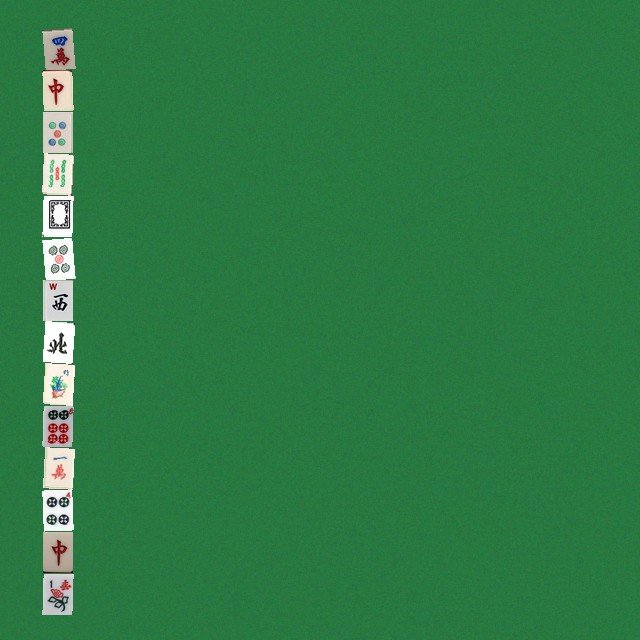tile: (42, 27, 72, 68), (42, 69, 72, 110), (42, 111, 72, 152), (42, 153, 72, 194), (42, 195, 72, 236), (42, 237, 72, 278), (42, 279, 72, 320), (42, 321, 72, 362), (42, 363, 72, 404), (42, 405, 72, 446), (42, 447, 72, 488), (42, 489, 72, 530), (42, 531, 72, 572), (42, 573, 72, 614)
